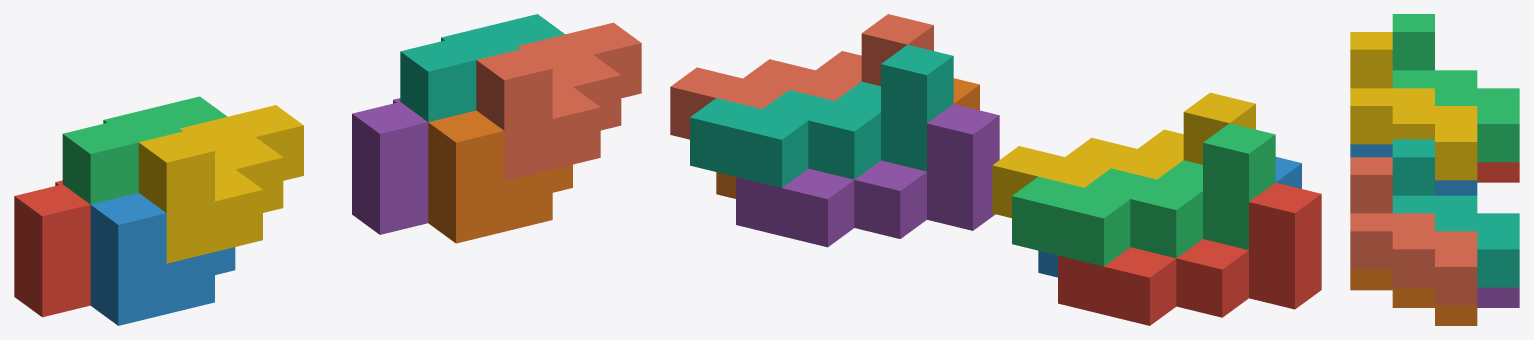
Rendered from tiling.obj.
3 views of the same model, side by side, from view 1: azimuth 30°, elevation 25°; view 2: azimuth 150°, elevation 25°; view 3: azimuth 270°, elevation 25° (orthographic). The views are drawn at different scales.
Visible parts, largest first — view 1: copy_1_domain_4, copy_1_domain_8, copy_1_domain_2, copy_1_domain_6, copy_1_domain_5, copy_1_domain_1, copy_1_domain_7, copy_1_domain_3; view 2: copy_1_domain_3, copy_1_domain_7, copy_1_domain_1, copy_1_domain_5, copy_1_domain_4, copy_1_domain_8, copy_1_domain_6, copy_1_domain_2; view 3: copy_1_domain_8, copy_1_domain_4, copy_1_domain_7, copy_1_domain_3, copy_1_domain_6, copy_1_domain_2, copy_1_domain_1, copy_1_domain_5.
Part boxes in pixels (x1,y1,x2,y2): copy_1_domain_4: (138, 105, 303, 263); copy_1_domain_8: (476, 22, 641, 181); copy_1_domain_2: (90, 193, 235, 325); copy_1_domain_6: (428, 110, 572, 243); copy_1_domain_5: (352, 98, 428, 234); copy_1_domain_1: (14, 180, 90, 317); copy_1_domain_7: (400, 14, 564, 122); copy_1_domain_3: (62, 96, 227, 204); copy_1_domain_3: (1012, 123, 1275, 266); copy_1_domain_7: (690, 44, 953, 187); copy_1_domain_1: (1058, 182, 1321, 325); copy_1_domain_5: (736, 104, 999, 247); copy_1_domain_4: (992, 92, 1255, 217); copy_1_domain_8: (670, 14, 933, 139); copy_1_domain_6: (716, 78, 979, 198); copy_1_domain_2: (1038, 157, 1301, 277); copy_1_domain_8: (1350, 157, 1477, 305); copy_1_domain_4: (1350, 32, 1477, 180); copy_1_domain_7: (1392, 139, 1519, 287); copy_1_domain_3: (1392, 14, 1519, 162); copy_1_domain_6: (1350, 269, 1477, 325); copy_1_domain_2: (1350, 144, 1477, 195); copy_1_domain_1: (1477, 162, 1519, 182); copy_1_domain_5: (1477, 287, 1519, 307).
Bounding box in the file's own units: 13 × 3 × 4.
